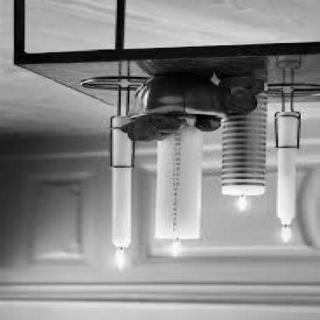Fire: (274, 222, 294, 248)
